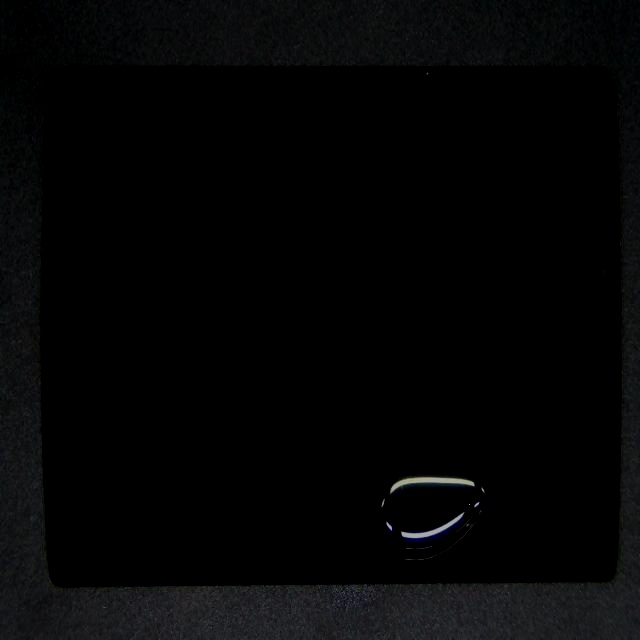oil: (181, 226, 564, 640)
